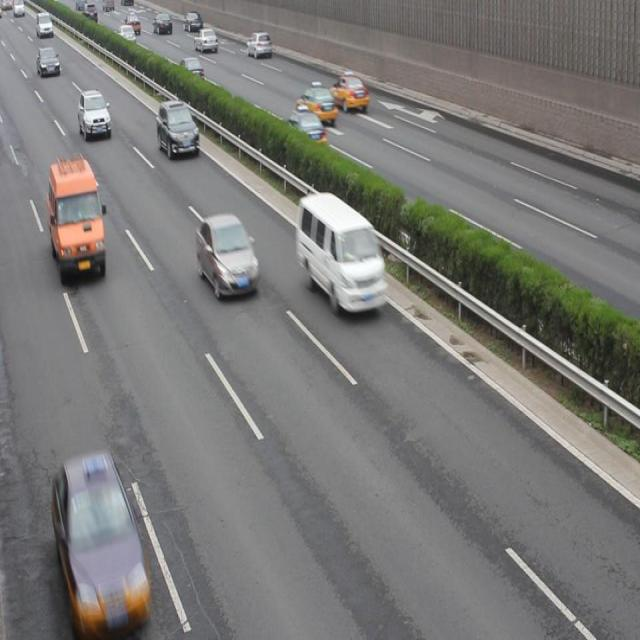car: (54, 457, 149, 640), (196, 215, 259, 298), (157, 102, 199, 159), (296, 82, 337, 125), (78, 88, 111, 138), (283, 108, 326, 146), (328, 72, 368, 110), (38, 47, 61, 79), (177, 59, 205, 83), (246, 32, 271, 58), (194, 30, 218, 54), (115, 24, 136, 46), (152, 14, 172, 36), (184, 12, 202, 31)
truck: (296, 192, 385, 314), (49, 158, 106, 276)
